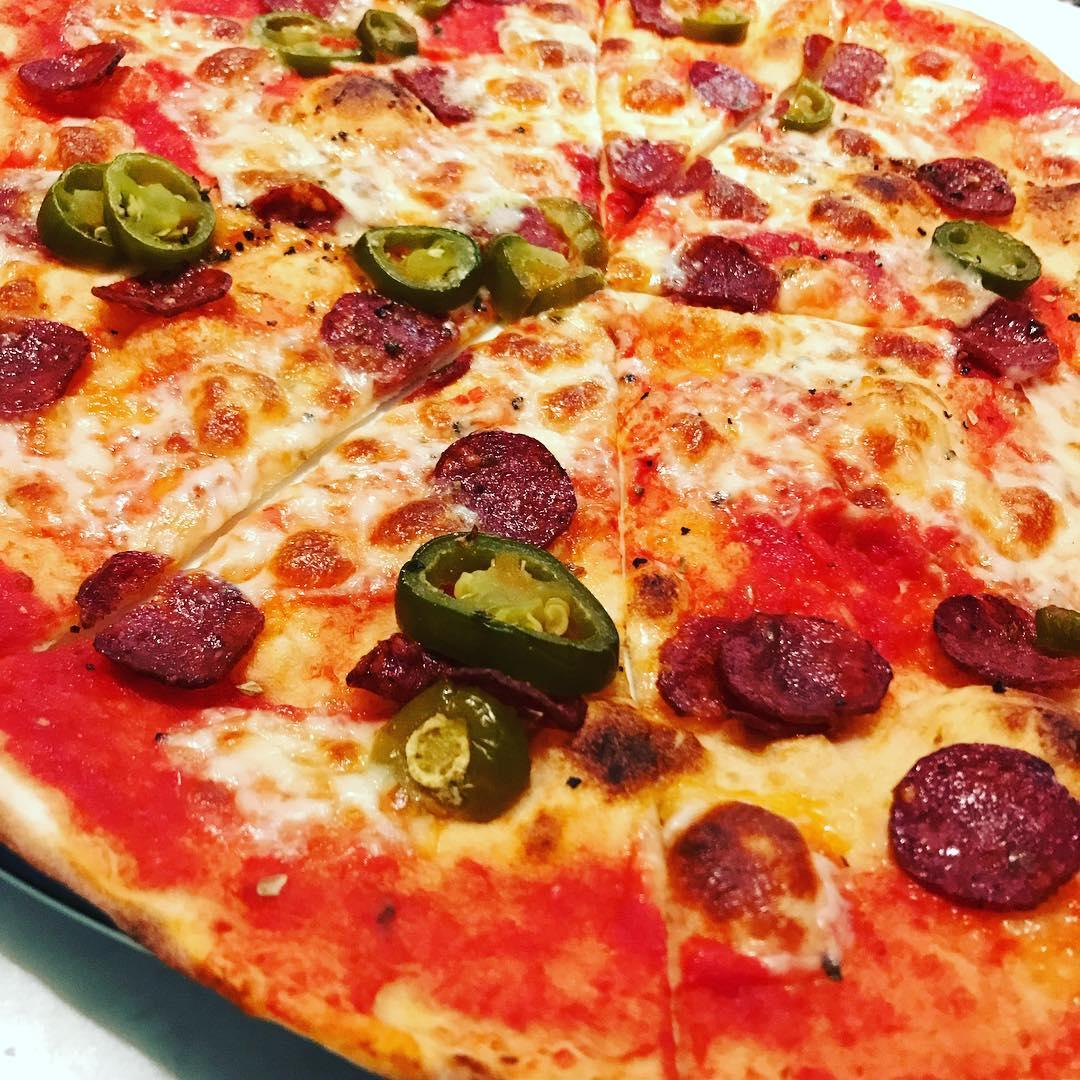Pepperoni: (894, 734, 1069, 916), (72, 545, 264, 701), (349, 625, 592, 737), (688, 612, 876, 734), (441, 434, 574, 534), (941, 594, 1071, 689), (336, 294, 468, 381), (391, 58, 496, 150), (951, 307, 1067, 388), (83, 270, 238, 324), (605, 139, 731, 204), (794, 21, 894, 99), (914, 134, 1014, 210), (668, 241, 772, 312), (21, 31, 123, 103), (14, 308, 90, 398), (241, 168, 338, 225), (687, 63, 778, 114)
Peppers: (370, 536, 621, 838), (361, 204, 598, 298), (41, 158, 216, 252), (258, 8, 425, 65), (934, 221, 1060, 287)
Pizza: (8, 0, 1078, 1074)
